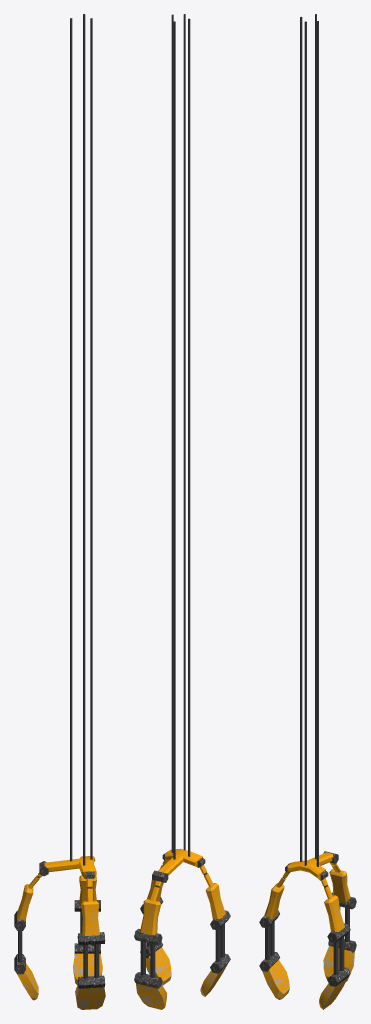
The model's file is Arena_006_Crane.fbx.
3 views of the same model, side by side, from view 1: azimuth 90°, elevation 25°; view 2: azimuth 150°, elevation 25°; view 3: azimuth 330°, elevation 25° (orthographic).
Visible parts, largest first — view 1: Arena_006_Crane; view 2: Arena_006_Crane; view 3: Arena_006_Crane.
Part boxes in pixels (x1=…): Arena_006_Crane: x1=14, y1=14, x2=105, y2=1009; Arena_006_Crane: x1=134, y1=14, x2=230, y2=1009; Arena_006_Crane: x1=259, y1=14, x2=356, y2=1009.
Bounding box in the file's own units: 256 × 3031 × 257.
Materials: 1 (1 with a texture image).
